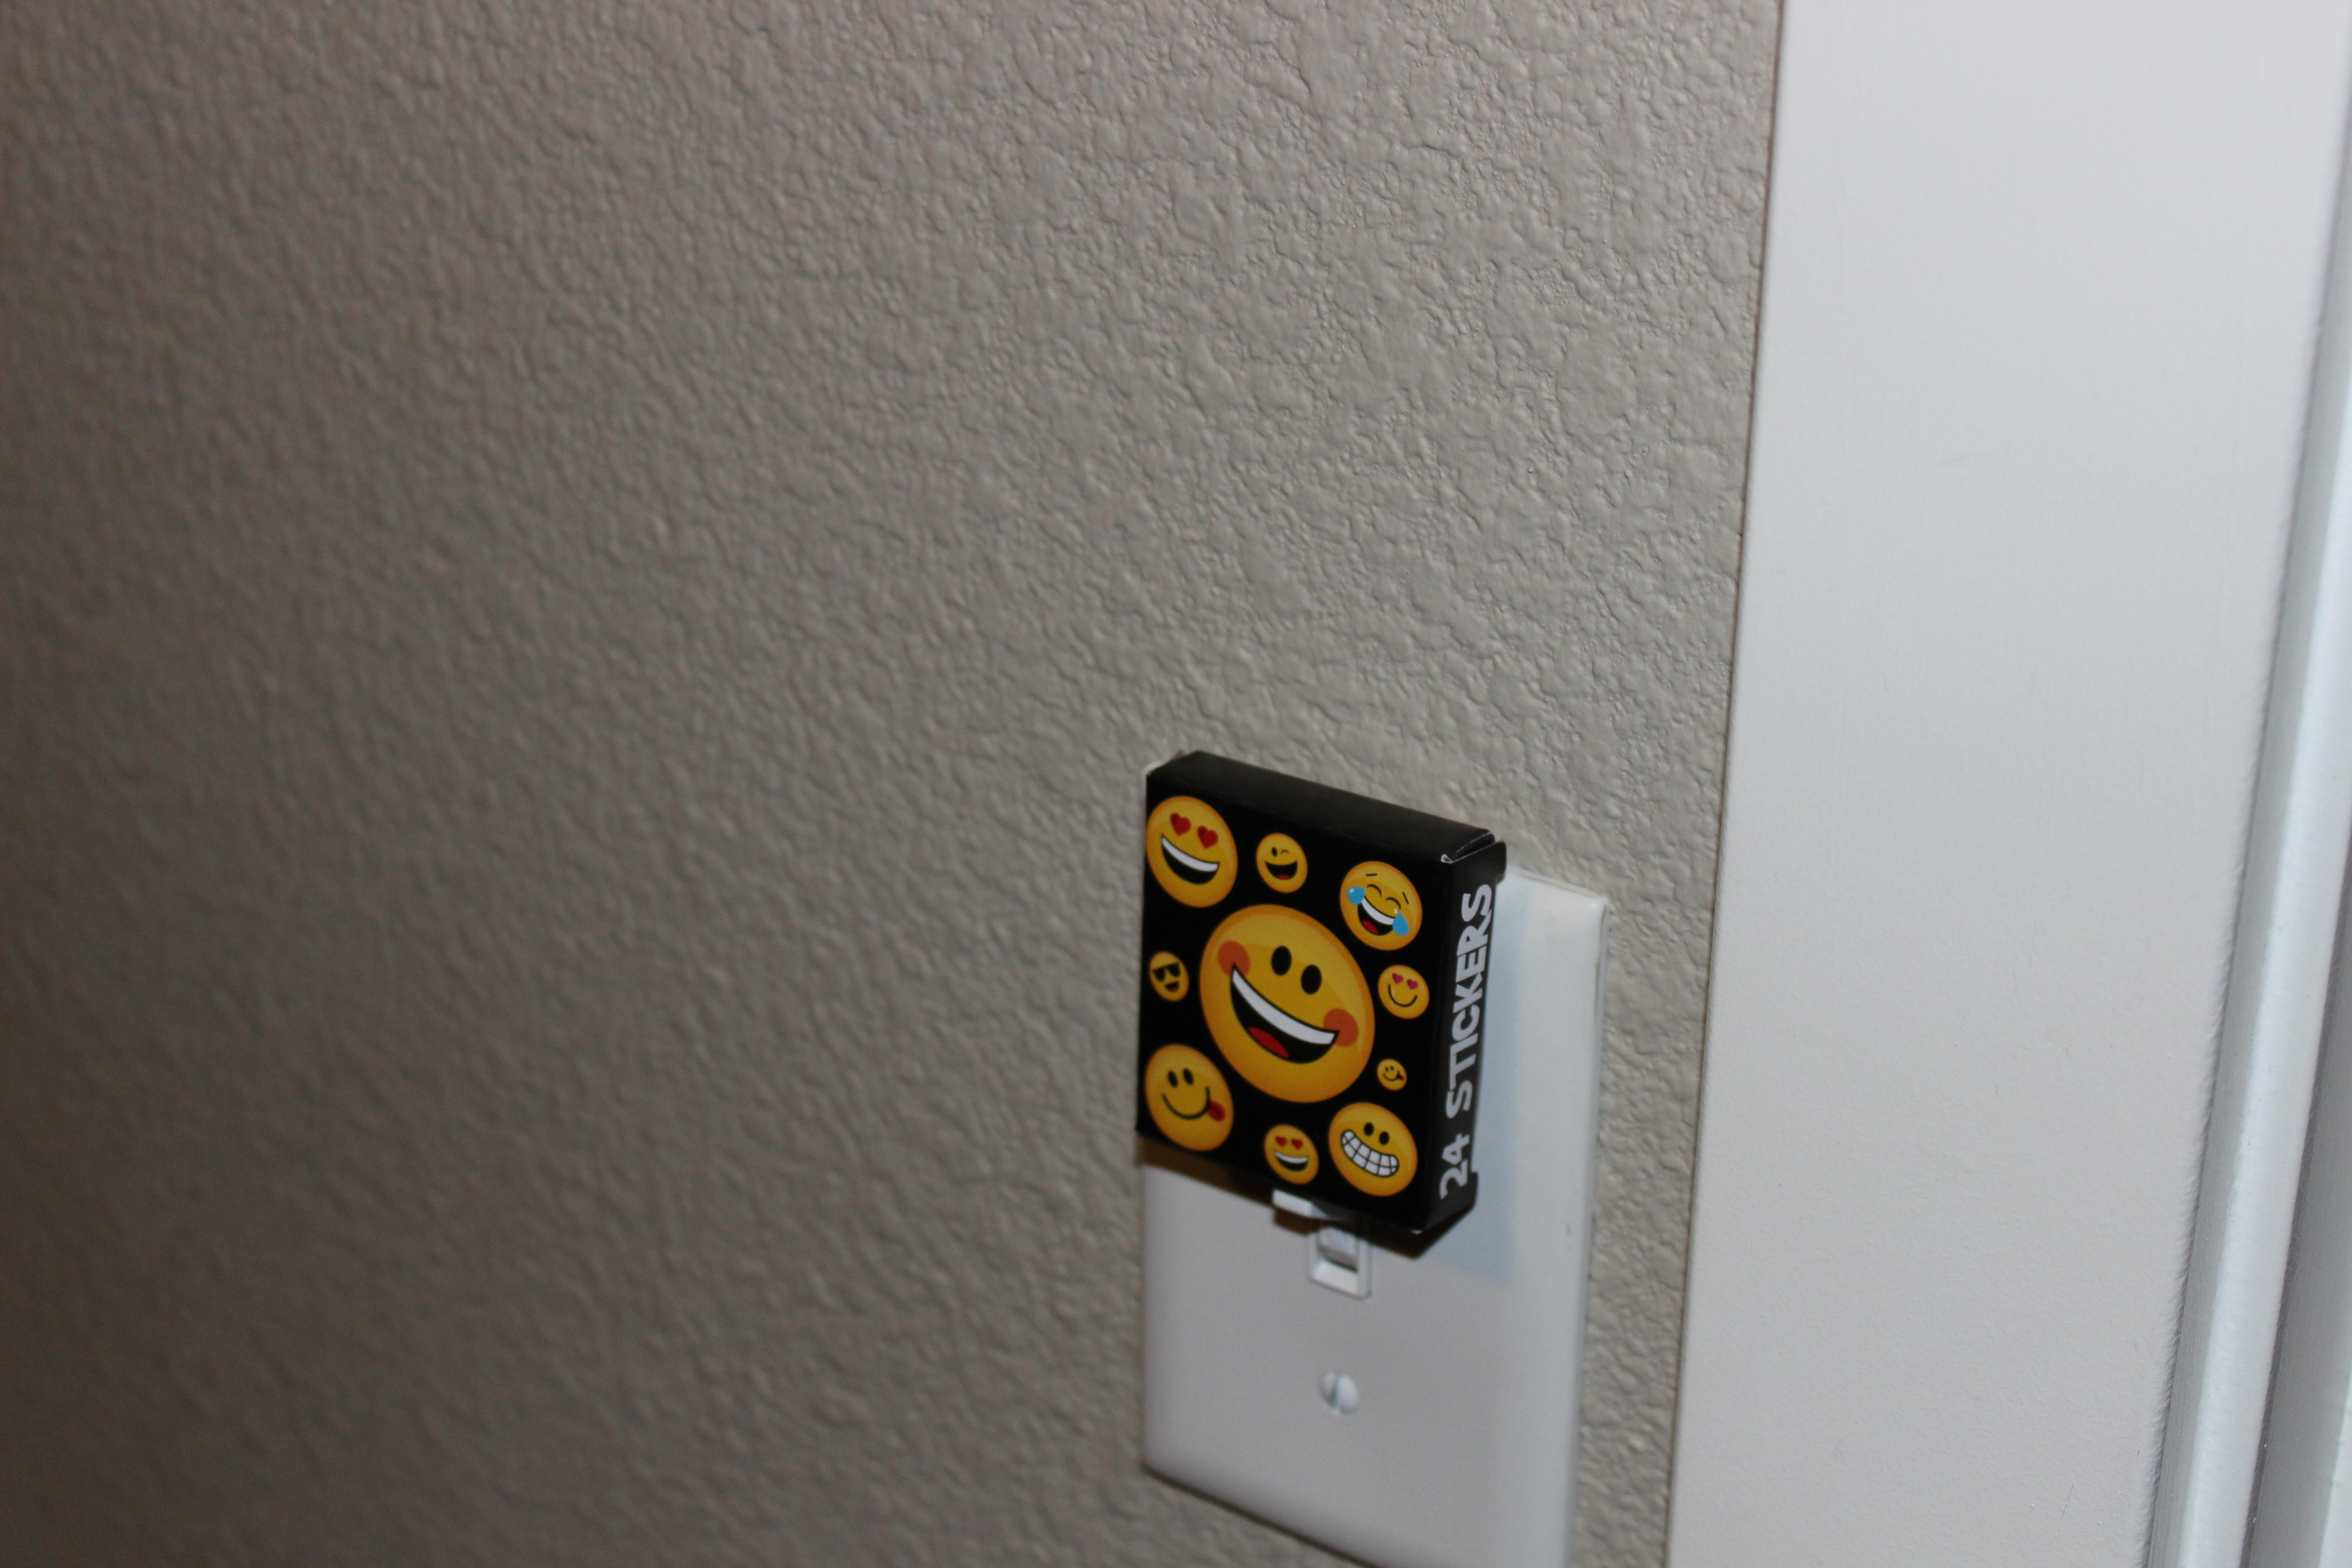stickerBox: (1095, 726, 1530, 1293)
